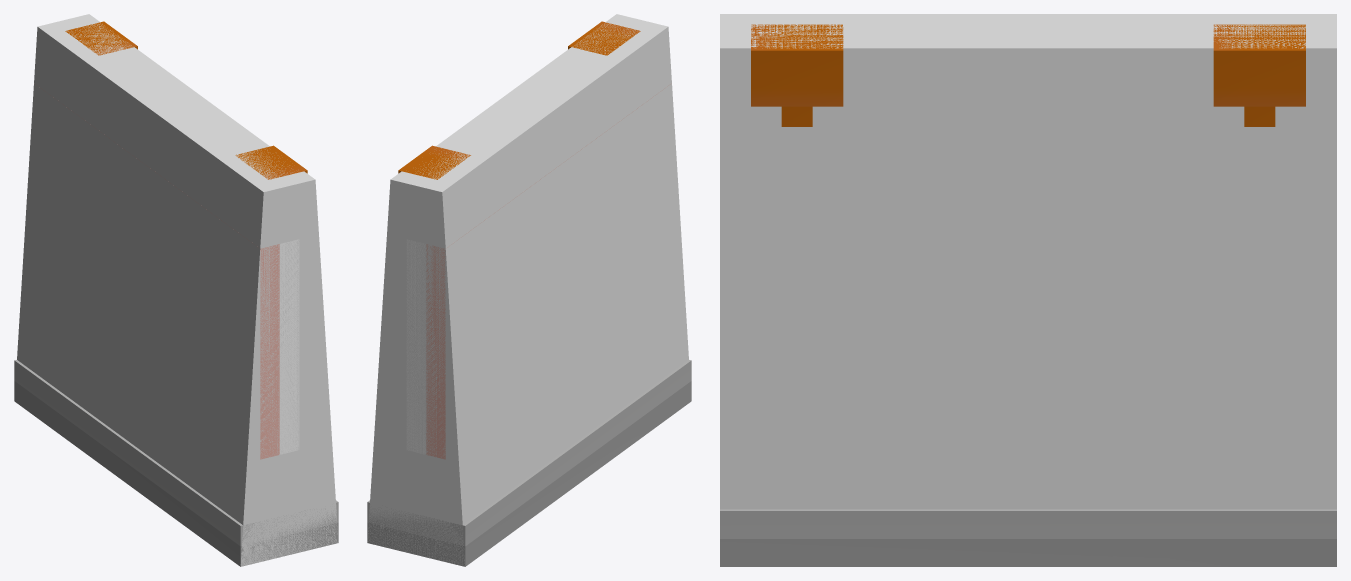
Rendered from RoadBlock01_B1_1_01.FBX.
The picture shows the model from 3 angles, left to right: view 1: azimuth 30°, elevation 25°; view 2: azimuth 150°, elevation 25°; view 3: azimuth 270°, elevation 25°; orthographic projection. The views are drawn at different scales.
Visible parts, largest first — view 1: RoadBlock01_B1_Damage_1_01, RoadBlock01_B1_Live_1_01; view 2: RoadBlock01_B1_Damage_1_01, RoadBlock01_B1_Live_1_01; view 3: RoadBlock01_B1_Damage_1_01, RoadBlock01_B1_Live_1_01.
Part boxes in pixels (x1=…): RoadBlock01_B1_Damage_1_01: x1=17, y1=14, x2=337, y2=566; RoadBlock01_B1_Live_1_01: x1=14, y1=21, x2=338, y2=566; RoadBlock01_B1_Damage_1_01: x1=367, y1=14, x2=688, y2=566; RoadBlock01_B1_Live_1_01: x1=367, y1=21, x2=691, y2=566; RoadBlock01_B1_Damage_1_01: x1=720, y1=14, x2=1336, y2=509; RoadBlock01_B1_Live_1_01: x1=720, y1=24, x2=1336, y2=566.
Bounding box in the file's own units: 0.381 × 1.37 × 1.52.
